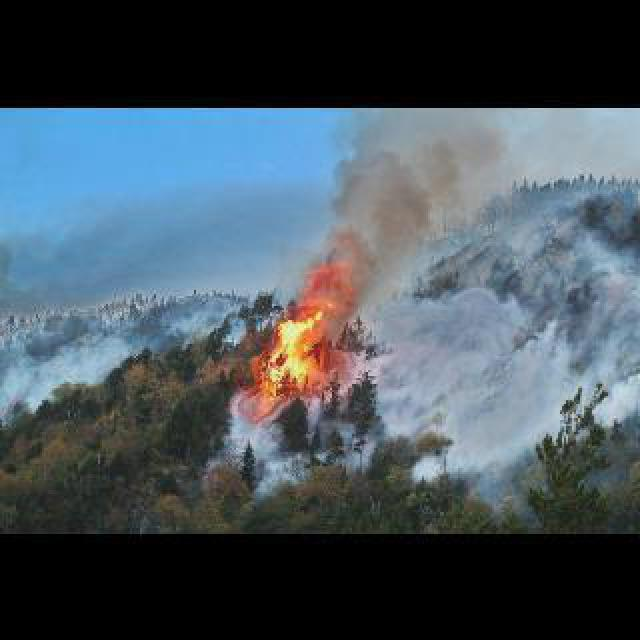Fire: (264, 306, 314, 382)
Smoke: (304, 106, 520, 312)
